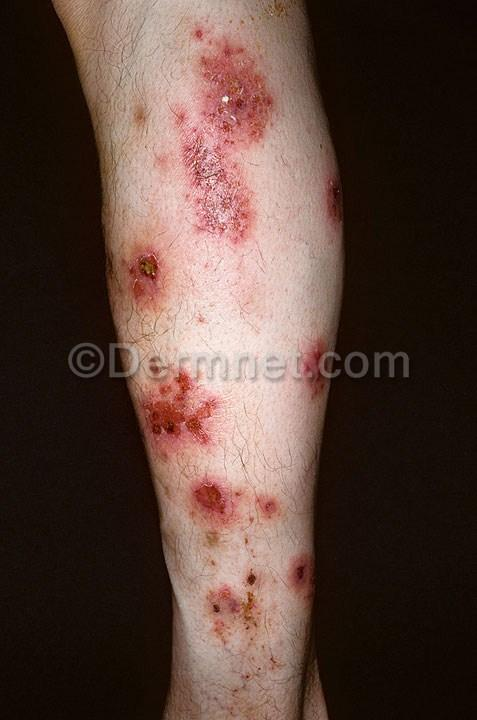Eczema: (128, 5, 322, 260), (173, 552, 290, 652), (135, 357, 239, 469), (105, 237, 190, 324), (309, 165, 363, 241), (175, 475, 249, 529), (288, 332, 342, 403), (271, 543, 326, 600), (253, 485, 292, 527)
